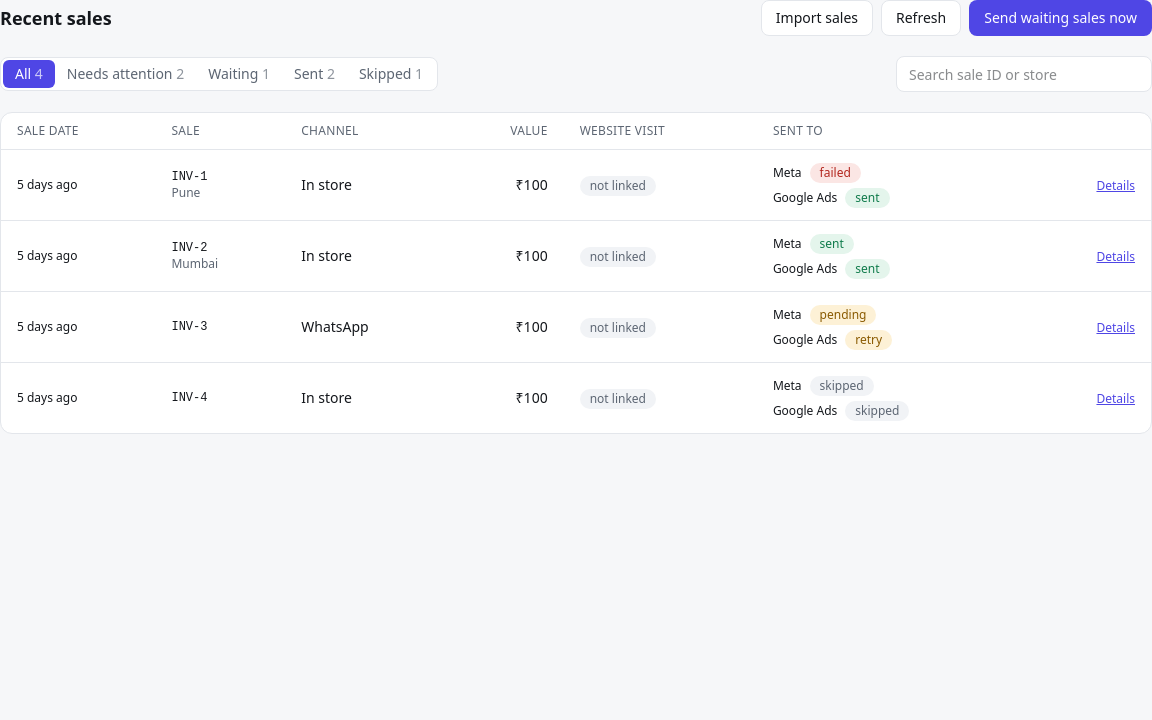
it: Sales: details, preview and resend › a Google rejection after acceptance is spelled out
Expected: the text "INV-2" is shown, [172,241,208,255]
Click the button "Details" in the row of "INV-2".
click(1116, 257)  # box [1096,249,1135,265]
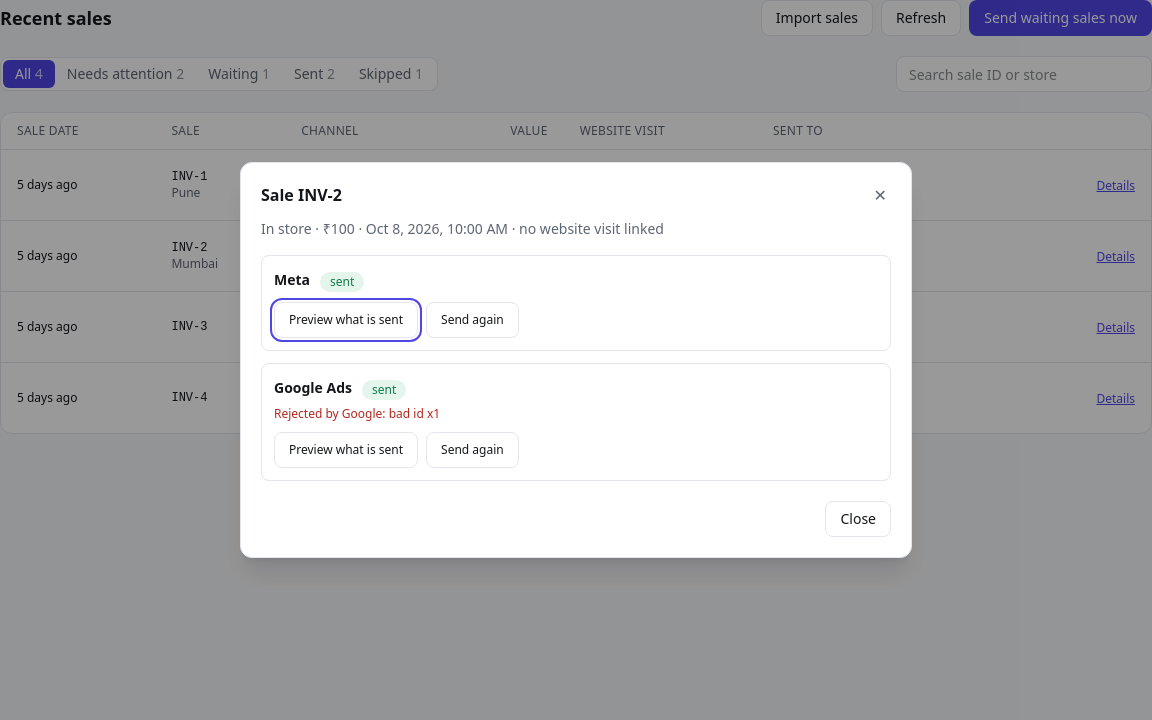
Now the text "Rejected by Google: bad id x1" is shown, box [274,405,440,422]
